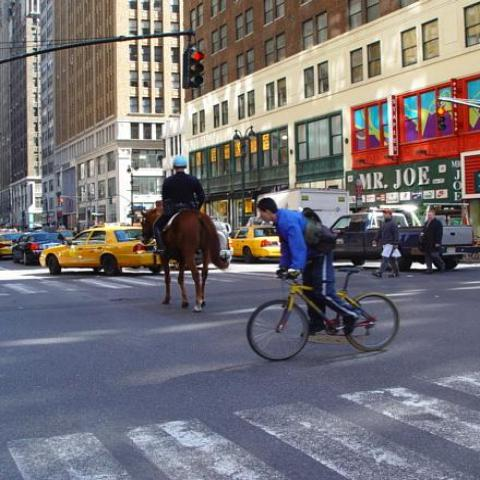car: (39, 225, 165, 278), (11, 232, 72, 266), (228, 227, 281, 261), (209, 216, 235, 263), (0, 228, 26, 258), (56, 229, 78, 242), (223, 221, 233, 234)
truck: (329, 213, 475, 272), (257, 186, 353, 228)
